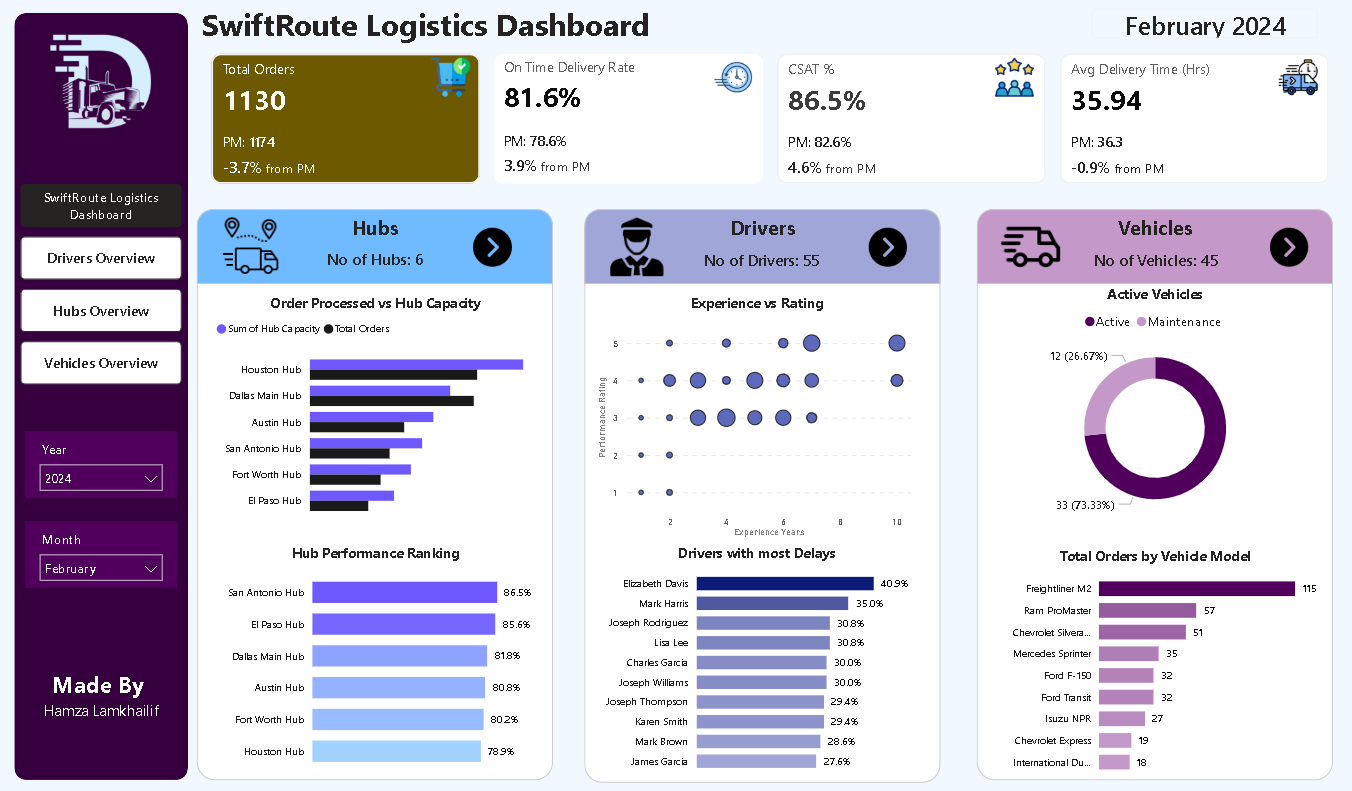

Layout of this report page (visuals, bound fields, positions):
{"tool":"powerbi","page":{"name":"SwiftRoute Logistics Dashboard","canvas":[1450,850],"ordinal":0},"visuals":[{"type":"shape","box":[17.4,14.7,185.5,819.6],"z":0},{"type":"textbox","box":[212.2,0,489.9,53.4],"z":1000},{"type":"cardVisual","fields":{"Data":["Orders.Total Orders","Orders.On Time Delivery Rate","Orders.CSAT %","Orders.Avg Delivery Time (Hrs)"]},"box":[202.9,53.4,1246.7,149.5],"z":2000},{"type":"slicer","fields":{"Values":["Date Table.Year"]},"box":[29.3,462.2,161.4,70],"z":3000},{"type":"slicer","fields":{"Values":["Date Table.Month"]},"box":[29.3,557.3,161.4,70],"z":4000},{"type":"shape","box":[212.2,224.2,380.4,610],"z":5000},{"type":"shape","box":[212.2,224.2,380.4,80],"z":6000},{"type":"textbox","box":[269.6,224.2,267,52.1],"z":7000},{"type":"cardVisual","fields":{"Data":["Hubs.No Of Hubs"]},"box":[277.6,259,250.9,33.4],"z":8000},{"type":"clusteredBarChart","title":"Order Processed vs Hub Capacity","fields":{"Category":["Hubs.HubName"],"Y":["Sum(Hubs.Hub Capacity)","Orders.Total Orders"]},"box":[228.3,313.7,349.7,249.6],"z":9000},{"type":"barChart","title":"Hub Performance Ranking","fields":{"Category":["Hubs.HubName"],"Y":["Orders.On Time Delivery Rate"]},"box":[230.9,580.6,344.4,253.6],"z":10000},{"type":"shape","box":[626,226.9,380.4,610],"z":11000},{"type":"shape","box":[626,224.2,380.4,80.1],"z":12000},{"type":"shape","box":[1045.2,224.2,380.4,610],"z":13000},{"type":"shape","box":[1045.2,224.2,380.4,80.1],"z":14000},{"type":"textbox","box":[683.4,224.2,267,52.1],"z":15000},{"type":"cardVisual","fields":{"Data":["Drivers.No of Drivers"]},"box":[689.9,259.9,251.6,33.2],"z":16000},{"type":"scatterChart","title":"Experience vs Rating","fields":{"X":["Drivers.Experience Years"],"Y":["Drivers.Performance Rating"],"Size":["Sum(Drivers.Experience Years)1"]},"box":[635.7,314.3,350,265.7],"z":17000},{"type":"barChart","title":"Drivers with most Delays","fields":{"Category":["Drivers.DriverName"],"Y":["Orders.Delayed Delivery Rate"]},"box":[635.7,580,350,254.3],"z":18000},{"type":"textbox","box":[1102.5,224.2,267,52.1],"z":19000},{"type":"cardVisual","fields":{"Data":["Vehicles.No of Vehicles"]},"box":[1110.6,260.3,252.3,33.4],"z":20000},{"type":"donutChart","title":"Active Vehicles","fields":{"Category":["Vehicles.Vehicle Status"],"Y":["CountNonNull(Vehicles.Vehicle ID)"]},"box":[1055.7,304.3,360,258.6],"z":21000},{"type":"barChart","fields":{"Category":["Vehicles.Vehicle Model"],"Y":["Orders.Total Orders"]},"box":[1055.7,584.3,360,252.9],"z":22000},{"type":"image","box":[40,27.1,141.4,131.4],"z":23000},{"type":"cardVisual","fields":{"Data":["Orders.Year Month Title"]},"box":[1162.9,5.7,252.9,42.9],"z":24000},{"type":"image","box":[912.9,244.3,74.3,41.4],"z":25000},{"type":"image","box":[491.2,244.3,73.4,41.4],"z":26000},{"type":"image","box":[1341.4,244.3,74.3,41.4],"z":27000},{"type":"pageNavigator","box":[24,197.6,172.2,216],"z":28000},{"type":"image","box":[1055.8,233.6,93.4,62.7],"z":29000},{"type":"image","box":[635.4,233.6,93.4,62.7],"z":30000},{"type":"image","box":[222.9,232.3,93.4,62.7],"z":31000},{"type":"image","box":[759.5,62.7,50.7,41.4],"z":32000},{"type":"image","box":[1362.8,62.7,50.7,41.4],"z":33000},{"type":"image","box":[1059.8,62.7,50.7,41.4],"z":34000},{"type":"image","box":[457.8,62.7,50.7,41.4],"z":35000},{"type":"textbox","box":[25.4,710.1,169.5,74.7],"z":35001}]}

Visuals, with their boxes in screenshot pixels (x1, y1, x2, y2), scaled from the page's 1450x850 canvas onto the 1352x791 screenshot:
shape: (16, 14, 189, 776)
textbox: (198, 0, 655, 50)
cardVisual - Orders.Total Orders x Orders.On Time Delivery Rate: (189, 50, 1351, 189)
slicer - Date Table.Year: (27, 430, 178, 495)
slicer - Date Table.Month: (27, 519, 178, 584)
shape: (198, 209, 553, 776)
shape: (198, 209, 553, 283)
textbox: (251, 209, 500, 257)
cardVisual - Hubs.No Of Hubs: (259, 241, 493, 272)
"Order Processed vs Hub Capacity" clusteredBarChart: (213, 292, 539, 524)
"Hub Performance Ranking" barChart: (215, 540, 536, 776)
shape: (584, 211, 938, 779)
shape: (584, 209, 938, 283)
shape: (975, 209, 1329, 776)
shape: (975, 209, 1329, 283)
textbox: (637, 209, 886, 257)
cardVisual - Drivers.No of Drivers: (643, 242, 878, 273)
"Experience vs Rating" scatterChart: (593, 292, 919, 540)
"Drivers with most Delays" barChart: (593, 540, 919, 776)
textbox: (1028, 209, 1277, 257)
cardVisual - Vehicles.No of Vehicles: (1036, 242, 1271, 273)
"Active Vehicles" donutChart: (984, 283, 1320, 524)
barChart - Vehicles.Vehicle Model x Orders.Total Orders: (984, 544, 1320, 779)
image: (37, 25, 169, 147)
cardVisual - Orders.Year Month Title: (1084, 5, 1320, 45)
image: (851, 227, 920, 266)
image: (458, 227, 526, 266)
image: (1251, 227, 1320, 266)
pageNavigator: (22, 184, 183, 385)
image: (984, 217, 1072, 276)
image: (592, 217, 680, 276)
image: (208, 216, 295, 275)
image: (708, 58, 755, 97)
image: (1271, 58, 1318, 97)
image: (988, 58, 1035, 97)
image: (427, 58, 474, 97)
textbox: (24, 661, 182, 730)
